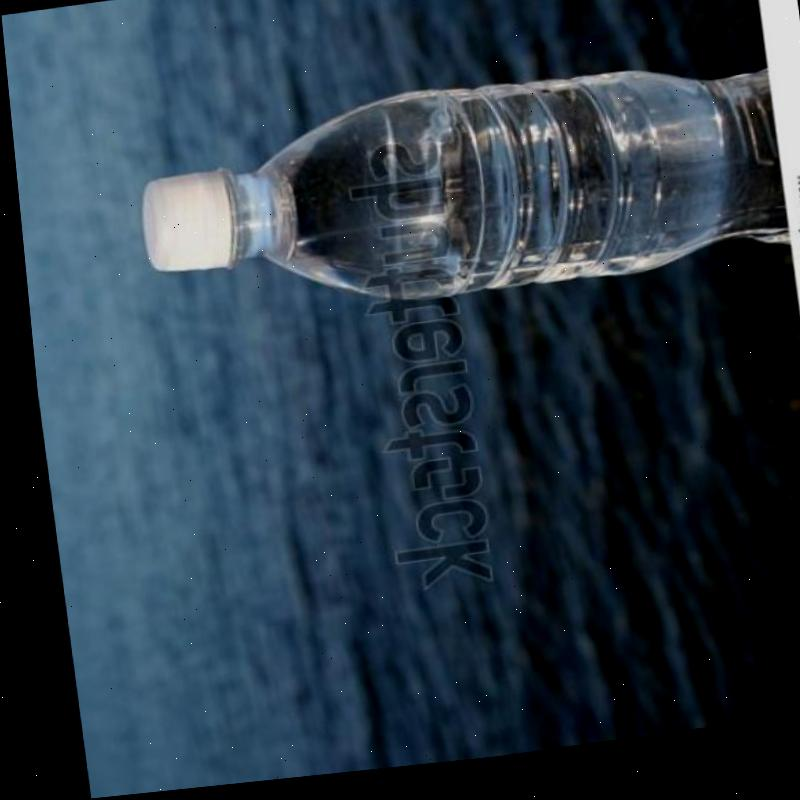botella: (126, 57, 786, 341)
